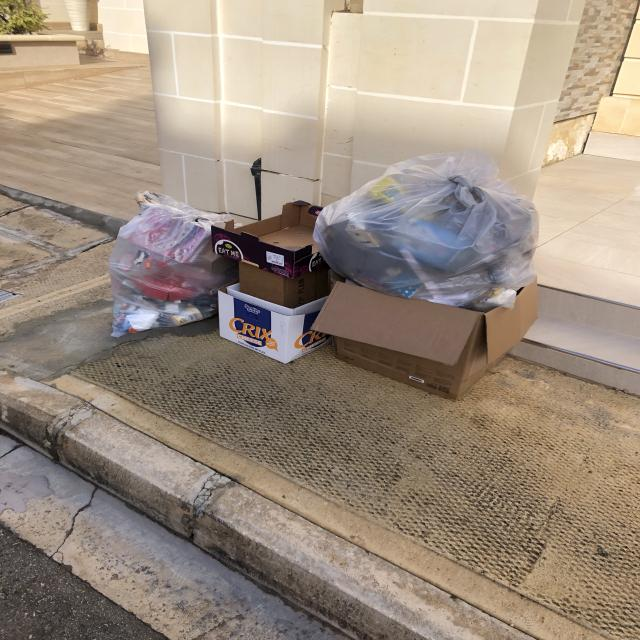Other: (313, 278, 553, 402), (214, 287, 330, 368), (212, 200, 329, 277), (230, 261, 341, 308), (222, 280, 332, 320)
Recycled Waste -Grey or Green Bag-: (312, 151, 539, 315), (104, 187, 244, 348)
